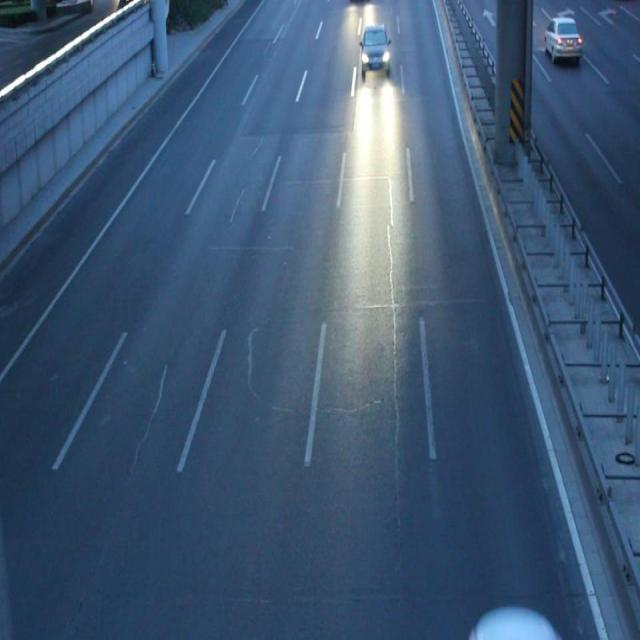car: (358, 25, 391, 78)
